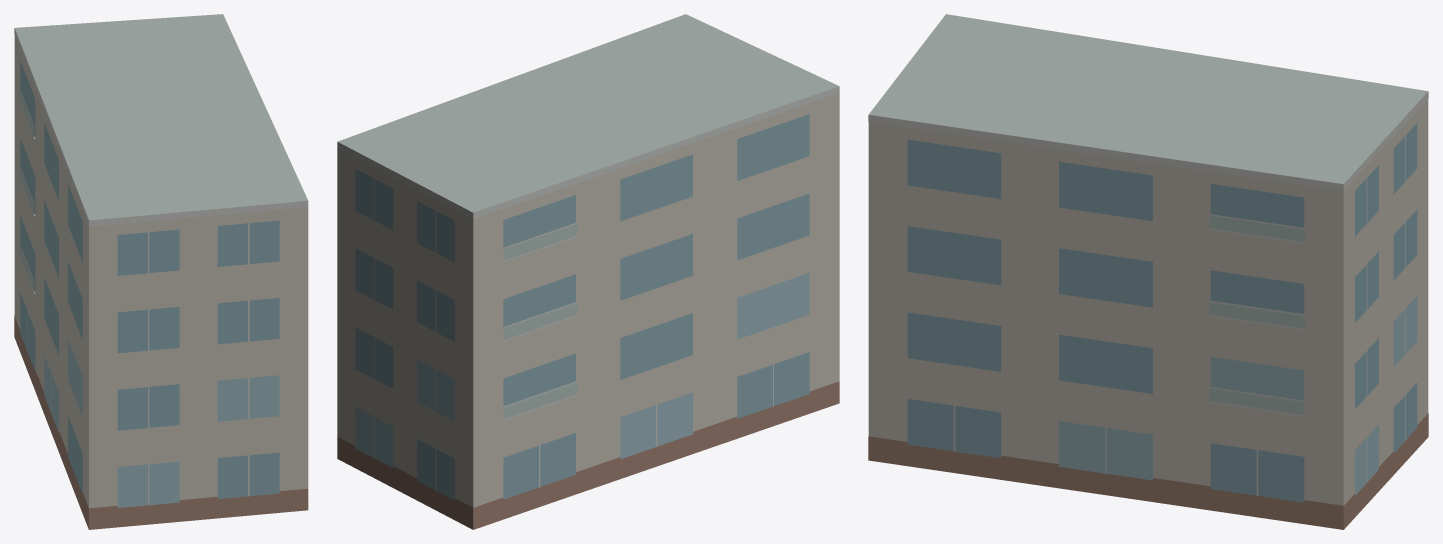
Rendered from survey-upis-33038161.glb.
The picture shows the model from 3 angles, left to right: view 1: azimuth 30°, elevation 25°; view 2: azimuth 150°, elevation 25°; view 3: azimuth 270°, elevation 25°; orthographic projection. The views are drawn at different scales.
Visible parts, largest first — view 1: survey-upis-33038161.tmp; view 2: survey-upis-33038161.tmp; view 3: survey-upis-33038161.tmp.
Boxes of the visible parts, bbox=[...] form: survey-upis-33038161.tmp: bbox=[14, 14, 308, 529]; survey-upis-33038161.tmp: bbox=[337, 14, 839, 529]; survey-upis-33038161.tmp: bbox=[868, 14, 1428, 529].
Size of the model in its own units: 12.89 by 12.2 by 17.92.
